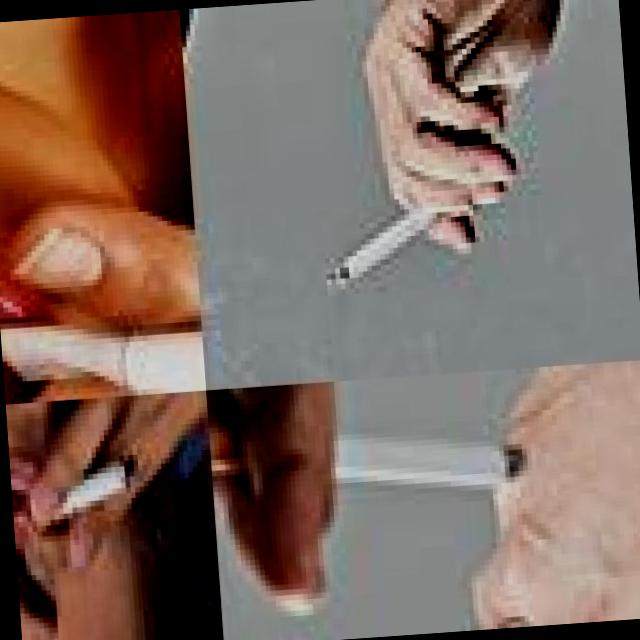cigarette: (208, 394, 530, 508), (0, 310, 201, 404), (320, 189, 460, 290), (42, 446, 140, 538)
